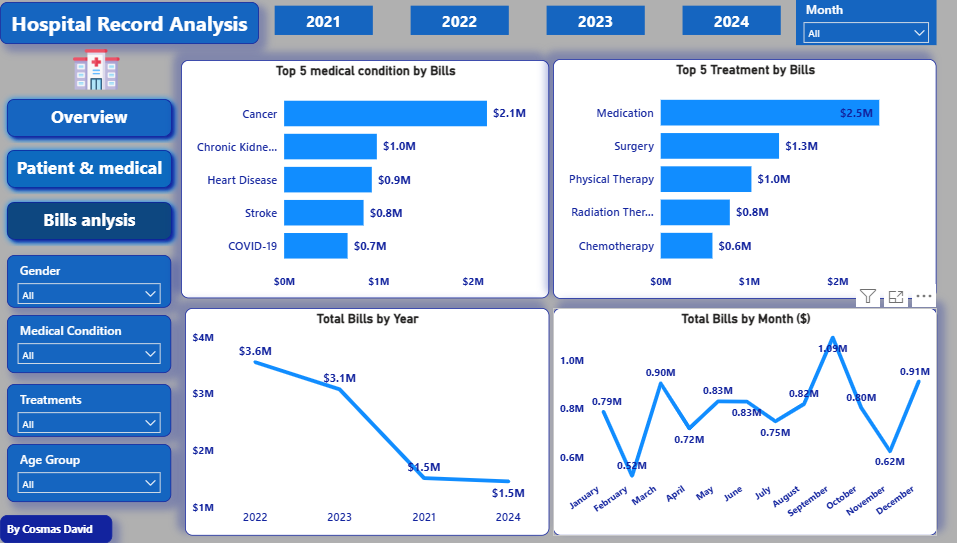

What the dashboard file says about the page in this screenshot:
{"tool":"powerbi","page":{"name":"Bills anlysis","canvas":[1280,720],"ordinal":2},"visuals":[{"type":"group","id":"g1","title":"Group 2","box":[0,5.5,1226.3,63.3],"z":0},{"type":"image","box":[61.9,68.8,129.4,60.6],"z":1},{"type":"actionButton","box":[0,129.4,234,67.4],"z":2},{"type":"actionButton","box":[0,196.8,234,67.4],"z":3},{"type":"actionButton","box":[0,264.3,234,67.4],"z":4},{"type":"slicer","fields":{"Values":["Sheet1.Gender"]},"box":[9.6,342.7,214.7,68.8],"z":5},{"type":"slicer","fields":{"Values":["Sheet1.Medical Condition"]},"box":[9.6,421.2,214.7,75.7],"z":6},{"type":"slicer","fields":{"Values":["Sheet1.Treatments"]},"box":[9.6,512,214.7,68.8],"z":7},{"type":"slicer","fields":{"Values":["Sheet1.Age Group"]},"box":[9.6,590.5,214.7,75.7],"z":8},{"type":"textbox","box":[0,683.3,146.6,36.7],"z":9},{"type":"clusteredBarChart","title":"Top 5 medical condition by Bills","fields":{"Category":["Sheet1.Medical Condition"],"Y":["Sum(Sheet1.Bill Amount($))"]},"box":[236.7,88.1,481.7,312.4],"z":10},{"type":"lineChart","title":"Total Bills by Year","fields":{"Category":["Sheet1.Year"],"Y":["Sum(Sheet1.Bill Amount($))"]},"box":[242.2,412.4,476.5,298.5],"z":11},{"type":"lineChart","title":"Total Bills by Month ($) ","fields":{"Category":["Sheet1.Month Name"],"Y":["Sum(Sheet1.Bill Amount($))"]},"box":[723.9,412.4,502.7,298.5],"z":12},{"type":"clusteredBarChart","title":"Top 5 Treatment by Bills","fields":{"Category":["Sheet1.Treatments"],"Y":["Sum(Sheet1.Bill Amount($))"]},"box":[724,86.7,502.4,313.8],"z":13},{"type":"textbox","box":[0,12.4,338.6,55.1],"z":2000,"group":"g1"},{"type":"advancedSlicerVisual","fields":{"Values":["Sheet1.Year"]},"box":[355.1,12.4,673,48.2],"z":3000,"group":"g1"},{"type":"slicer","fields":{"Values":["Sheet1.Month Name"]},"box":[1041.9,5.5,184.4,63.3],"z":4000,"group":"g1"}]}

Visuals, with their boxes in screenshot pixels (x1, y1, x2, y2), scaled from the page's 1280x720 canvas onto the 957x543 screenshot:
"Group 2" group: pyautogui.locateOnScreen(0, 4, 917, 52)
image: pyautogui.locateOnScreen(46, 52, 143, 98)
actionButton: pyautogui.locateOnScreen(0, 98, 175, 148)
actionButton: pyautogui.locateOnScreen(0, 148, 175, 199)
actionButton: pyautogui.locateOnScreen(0, 199, 175, 250)
slicer - Sheet1.Gender: pyautogui.locateOnScreen(7, 258, 168, 310)
slicer - Sheet1.Medical Condition: pyautogui.locateOnScreen(7, 318, 168, 375)
slicer - Sheet1.Treatments: pyautogui.locateOnScreen(7, 386, 168, 438)
slicer - Sheet1.Age Group: pyautogui.locateOnScreen(7, 445, 168, 502)
textbox: pyautogui.locateOnScreen(0, 515, 110, 542)
"Top 5 medical condition by Bills" clusteredBarChart: pyautogui.locateOnScreen(177, 66, 537, 302)
"Total Bills by Year" lineChart: pyautogui.locateOnScreen(181, 311, 537, 536)
"Total Bills by Month ($) " lineChart: pyautogui.locateOnScreen(541, 311, 917, 536)
"Top 5 Treatment by Bills" clusteredBarChart: pyautogui.locateOnScreen(541, 65, 917, 302)
textbox: pyautogui.locateOnScreen(0, 9, 253, 51)
advancedSlicerVisual - Sheet1.Year: pyautogui.locateOnScreen(265, 9, 769, 46)
slicer - Sheet1.Month Name: pyautogui.locateOnScreen(779, 4, 917, 52)
